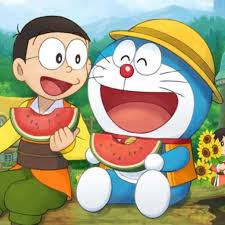doraemon: (76, 31, 213, 219)
